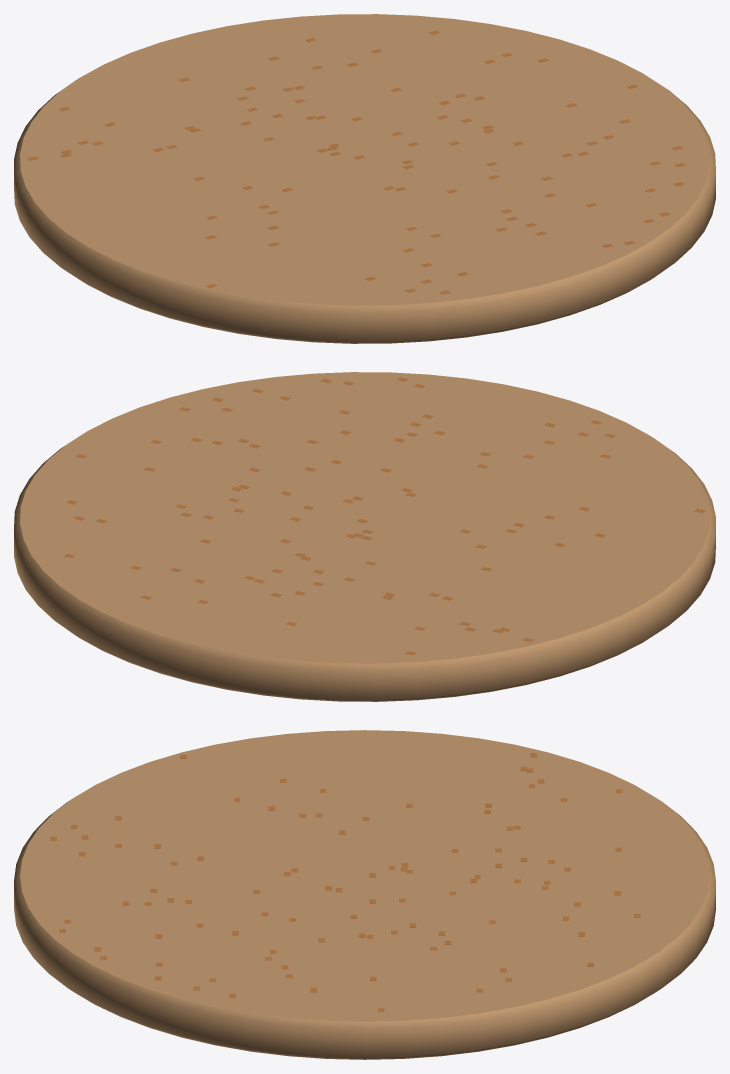
File: coaster.glb
3 views of the same model, one above another, from view 1: azimuth 30°, elevation 25°; view 2: azimuth 150°, elevation 25°; view 3: azimuth 270°, elevation 25° (orthographic).
Visible parts, largest first — view 1: coaster; view 2: coaster; view 3: coaster.
Boxes of the visible parts, x1,y1,x2,y2 form: coaster: [14, 14, 715, 343]; coaster: [14, 372, 715, 701]; coaster: [14, 730, 715, 1059].
Bounding box in the file's own units: 0.1 × 0.00602 × 0.1.
